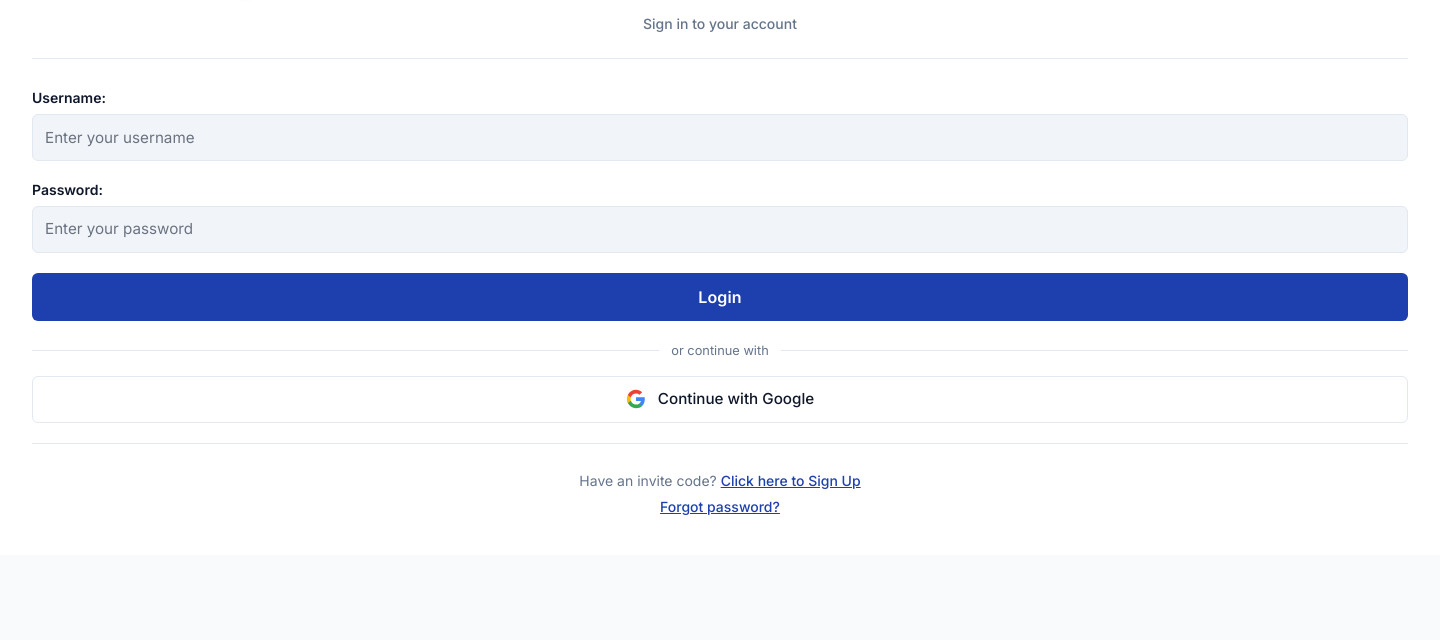
Test: LoginForm › form switching › switches back to login form when clicking login link
// Switch to signup
What coordinates should you click on to do the following:
click the button with test id "signup-link"
I would click on:
 (791, 480)
Its box is [721,470,861,491].
(page scrolled)
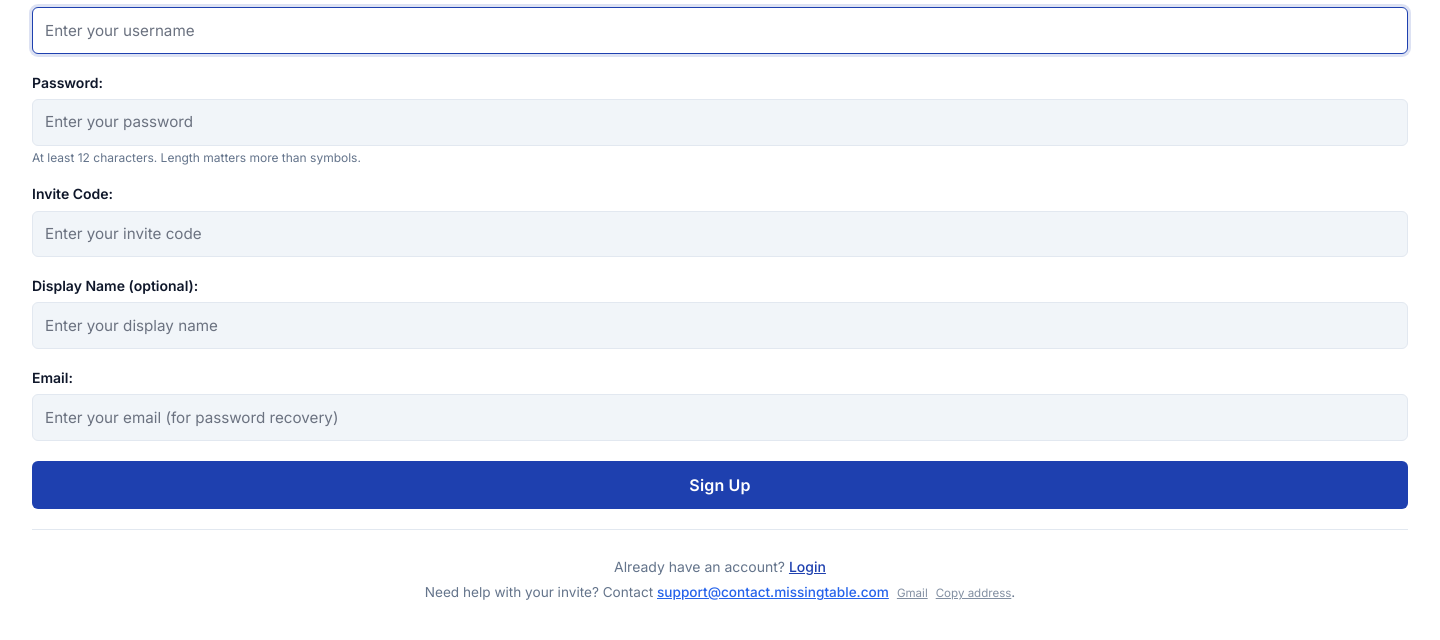
Now the button with test id "login-button" reads "Sign Up", box [32,461,1408,509]
// Switch back to login
What coordinates should you click on to do the following:
click the button with test id "login-link"
I would click on:
 (807, 566)
Its box is [789,556,826,577].
(page scrolled)
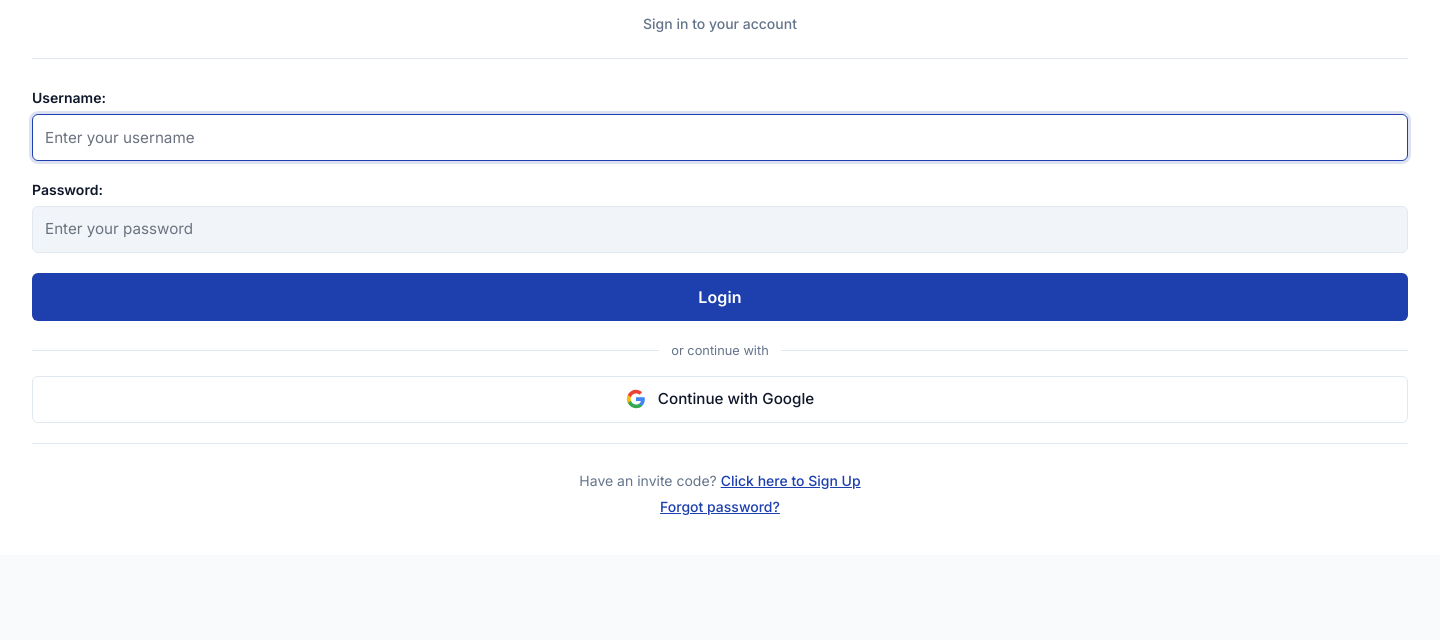
Now the button with test id "login-button" reads "Login", box [32,273,1408,321]
